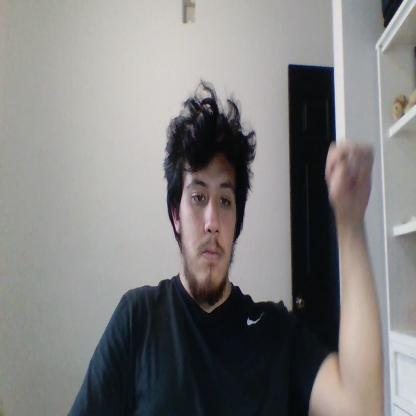S: (325, 140, 375, 216)
